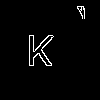K: (25, 25, 56, 71)
